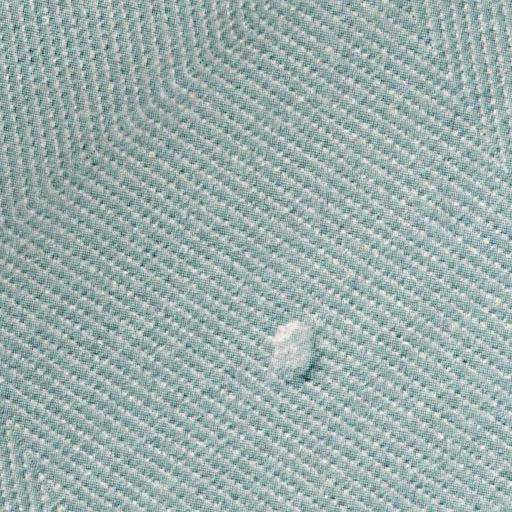knot: (260, 314, 328, 385)
